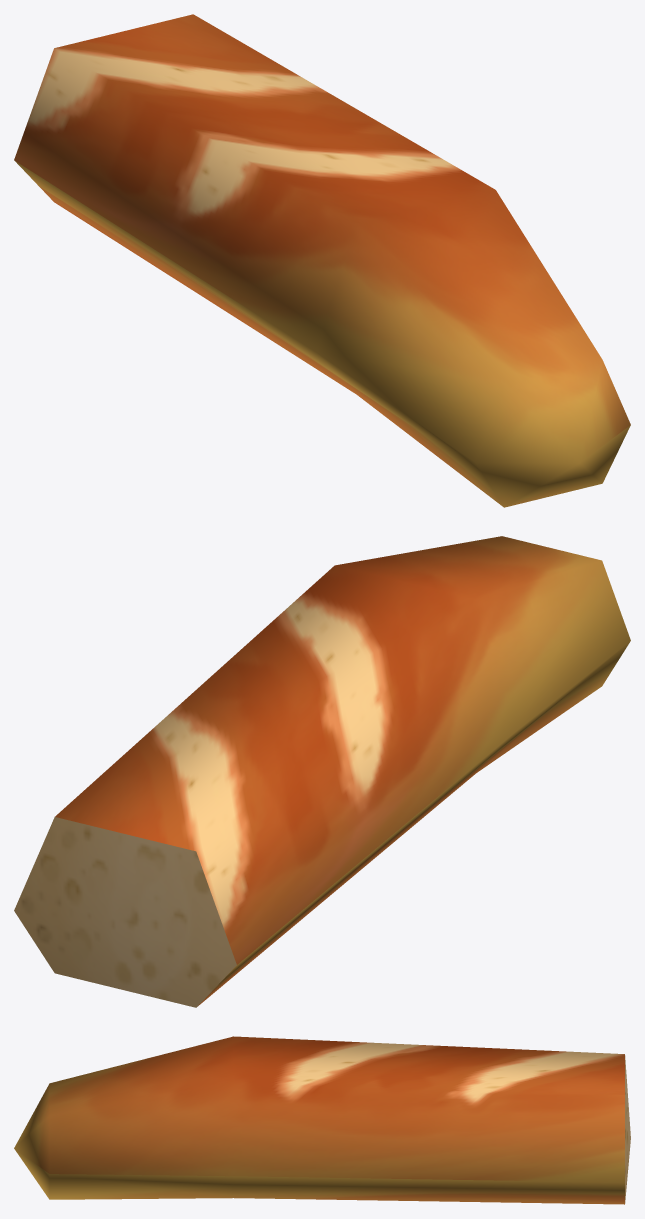
The model's file is SM_PROP_food_bread_10.FBX.
The picture shows the model from 3 angles, top to bottom: view 1: azimuth 30°, elevation 25°; view 2: azimuth 150°, elevation 25°; view 3: azimuth 270°, elevation 25°; orthographic projection. The views are drawn at different scales.
Parts seen in each view (by area): view 1: SM_PROP_food_bread_10; view 2: SM_PROP_food_bread_10; view 3: SM_PROP_food_bread_10.
Boxes of the visible parts, x1,y1,x2,y2 form: SM_PROP_food_bread_10: [14, 14, 630, 507]; SM_PROP_food_bread_10: [14, 536, 630, 1007]; SM_PROP_food_bread_10: [14, 1036, 630, 1204].
Size of the model in its own units: 18.35 by 62.15 by 14.1.
